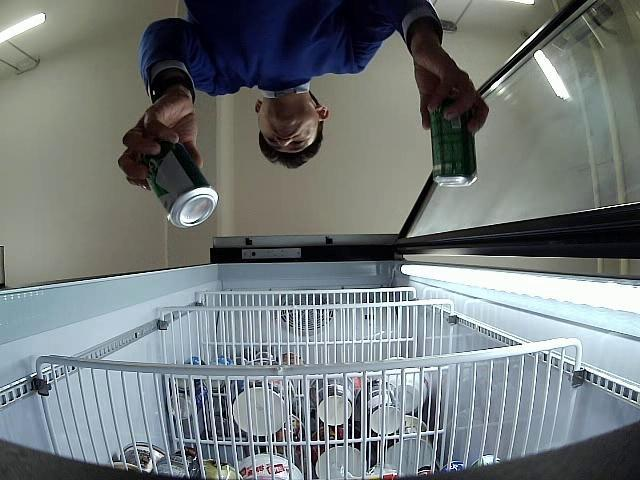12_chilsungCider: (141, 138, 218, 229), (429, 100, 478, 188)
